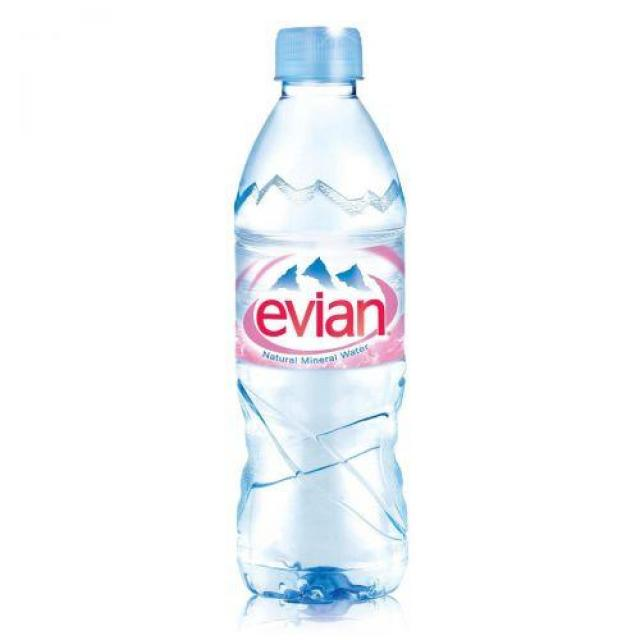plastic_bottle: (241, 29, 414, 600)
